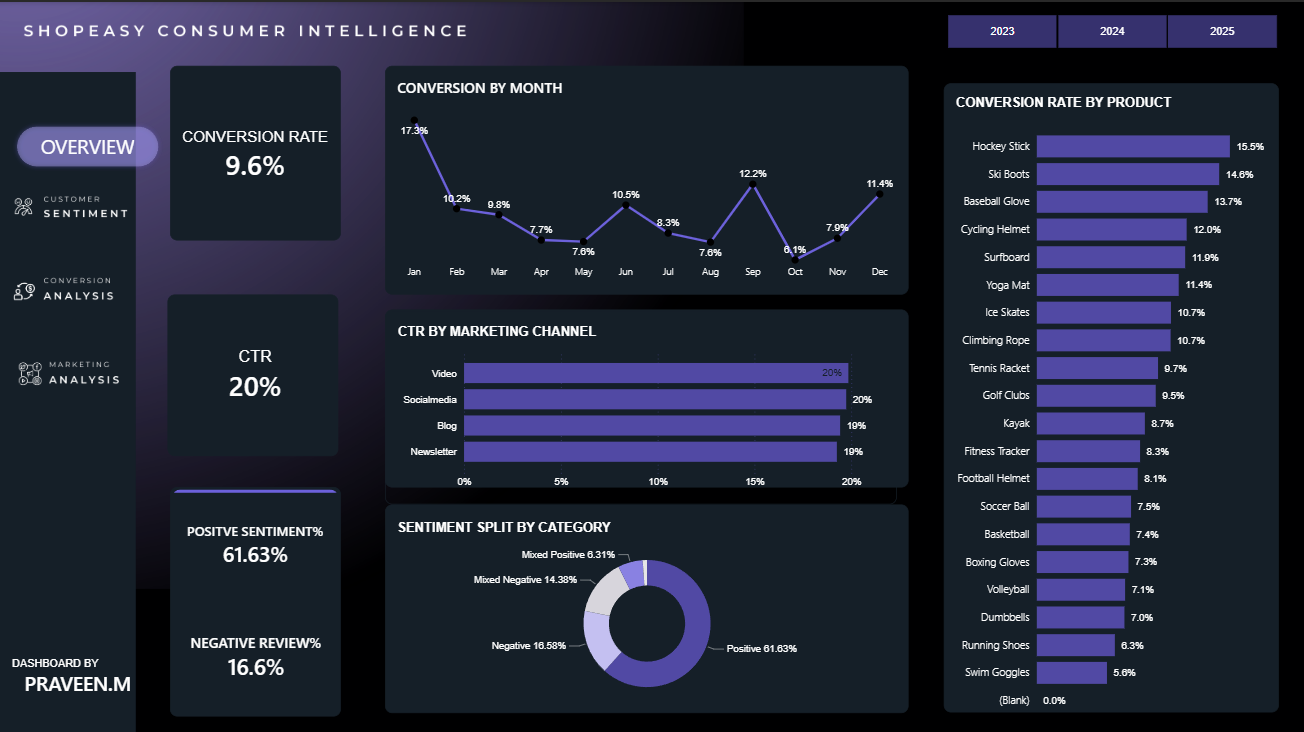

What the dashboard file says about the page in this screenshot:
{"tool":"powerbi","page":{"name":"overview","canvas":[1600,900],"ordinal":0},"visuals":[{"type":"shape","box":[0,159,149.2,49.2],"z":0},{"type":"shape","box":[208.2,78.7,209.8,214.8],"z":1000},{"type":"shape","box":[208.2,595.1,209.8,282],"z":2000},{"type":"shape","box":[1157.4,100,411.5,772.1],"z":3000},{"type":"shape","box":[472.4,78.2,642.6,280.7],"z":4000},{"type":"lineChart","title":"CONVERSION BY MONTH","fields":{"Category":["Calendar.MonthNameShort"],"Y":["calculations.Conversion Rate"]},"box":[472.4,78.2,642.6,280.7],"z":5000},{"type":"clusteredBarChart","title":"CONVERSION RATE BY PRODUCT","fields":{"Y":["calculations.Conversion Rate"],"Category":["products.ProductName"]},"box":[1157.4,100,411.5,800],"z":6000},{"type":"cardVisual","fields":{"Data":["negative_reviews_issues.neagtive review %"]},"box":[208.2,734.4,211.5,137.7],"z":7000},{"type":"shape","box":[472.1,616.4,642.6,255.7],"z":8000},{"type":"donutChart","title":"SENTIMENT SPLIT BY CATEGORY","fields":{"Category":["customer_reviews_sentiment.SentimentCategory"],"Y":["CountNonNull(customer_reviews_sentiment.ReviewID)"]},"box":[472.1,621.3,642.6,255.7],"z":9000},{"type":"cardVisual","fields":{"Data":["calculations.Conversion Rate"]},"box":[211.5,95.1,203.3,186.9],"z":10000},{"type":"cardVisual","fields":{"Data":["calculations.% Positive Sentiment"]},"box":[211.7,598.2,204,136.5],"z":11000},{"type":"shape","box":[204.9,359,209.8,198.4],"z":12000},{"type":"shape","box":[472.1,377,642.6,218],"z":13000},{"type":"clusteredBarChart","title":"CTR BY MARKETING CHANNEL","fields":{"Category":["engagement_data_cleaned.ContentType"],"Y":["calculations.CTR"]},"box":[472.1,378.7,627.9,237.7],"z":14000},{"type":"cardVisual","fields":{"Data":["calculations.CTR"]},"box":[208.2,359,209.8,198.4],"z":15000},{"type":"slicer","fields":{"Values":["Calendar.Date.Variation.Date Hierarchy.Year"]},"box":[1142.6,13.1,442.6,44.3],"z":16000},{"type":"shape","box":[0,131.9,214.7,90.5],"z":17000},{"type":"actionButton","box":[11.5,223,157.4,59],"z":18000},{"type":"actionButton","box":[11.5,329.5,157.4,59],"z":19000},{"type":"actionButton","box":[11.5,421.3,157.4,59],"z":20000},{"type":"pageNavigator","box":[0,208.2,183.6,303.3],"z":21000},{"type":"textbox","box":[0,803.7,184.1,56.7],"z":22000}]}

Visuals, with their boxes in screenshot pixels (x1, y1, x2, y2), scaled from the page's 1600x900 canvas onto the 1304x732 screenshot:
shape: region(0, 129, 122, 169)
shape: region(170, 64, 341, 239)
shape: region(170, 484, 341, 713)
shape: region(943, 81, 1279, 709)
shape: region(385, 64, 909, 292)
"CONVERSION BY MONTH" lineChart: region(385, 64, 909, 292)
"CONVERSION RATE BY PRODUCT" clusteredBarChart: region(943, 81, 1279, 731)
cardVisual - negative_reviews_issues.neagtive review %: region(170, 597, 342, 709)
shape: region(385, 501, 908, 709)
"SENTIMENT SPLIT BY CATEGORY" donutChart: region(385, 505, 908, 713)
cardVisual - calculations.Conversion Rate: region(172, 77, 338, 229)
cardVisual - calculations.% Positive Sentiment: region(173, 487, 339, 598)
shape: region(167, 292, 338, 453)
shape: region(385, 307, 908, 484)
"CTR BY MARKETING CHANNEL" clusteredBarChart: region(385, 308, 896, 501)
cardVisual - calculations.CTR: region(170, 292, 341, 453)
slicer - Calendar.Date.Variation.Date Hierarchy.Year: region(931, 11, 1292, 47)
shape: region(0, 107, 175, 181)
actionButton: region(9, 181, 138, 229)
actionButton: region(9, 268, 138, 316)
actionButton: region(9, 343, 138, 391)
pageNavigator: region(0, 169, 150, 416)
textbox: region(0, 654, 150, 700)
